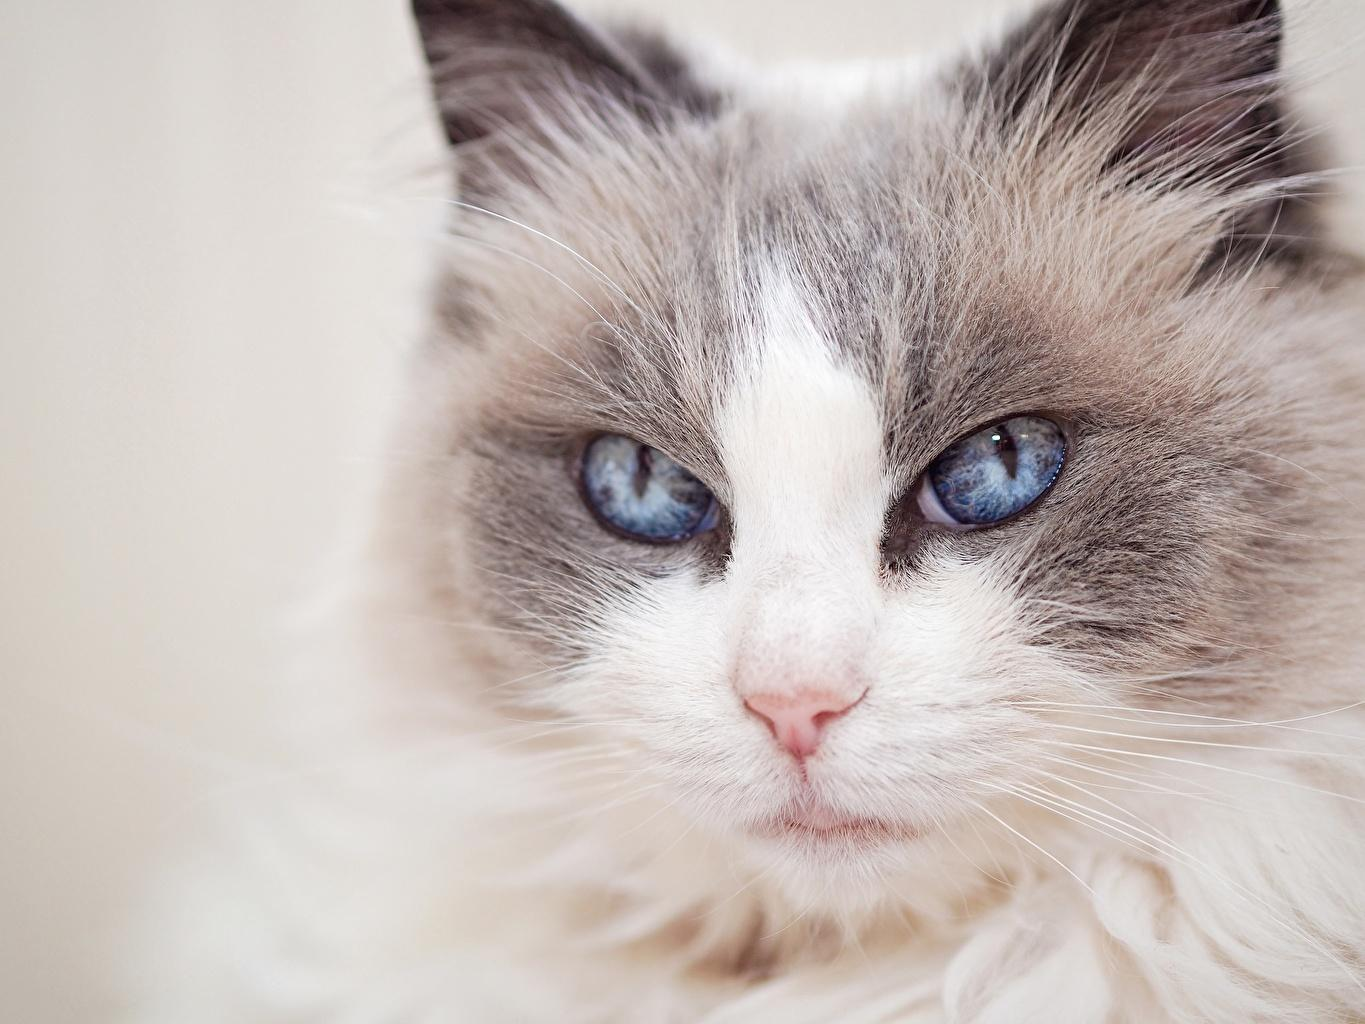ragdoll: (345, 1, 1365, 940)
